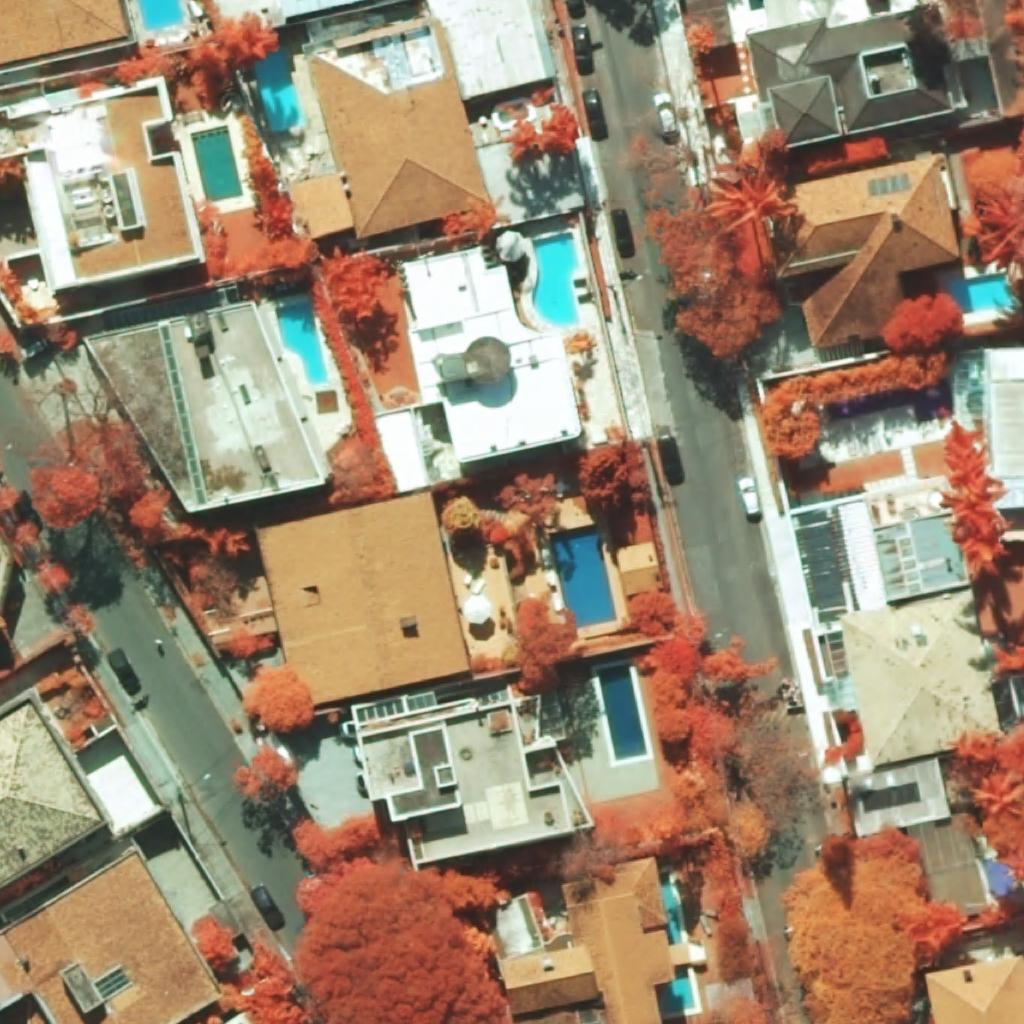pool: (549, 524, 617, 628), (597, 663, 647, 761), (532, 232, 580, 328), (276, 301, 328, 384), (254, 46, 304, 131), (190, 125, 243, 202), (949, 273, 1013, 313), (659, 967, 695, 1014), (138, 0, 185, 29), (663, 880, 681, 944)
